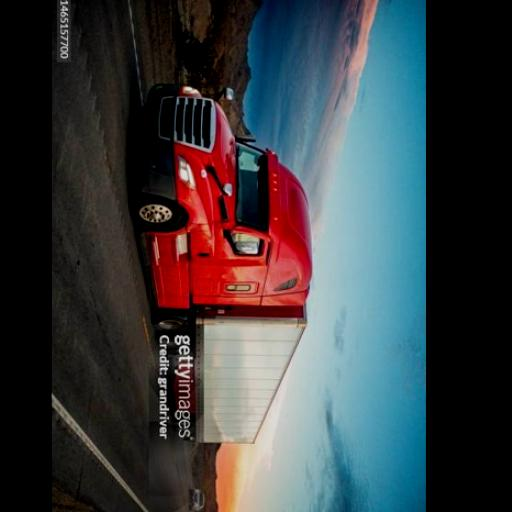sedan: (190, 488, 203, 509)
truck: (130, 79, 308, 446)
